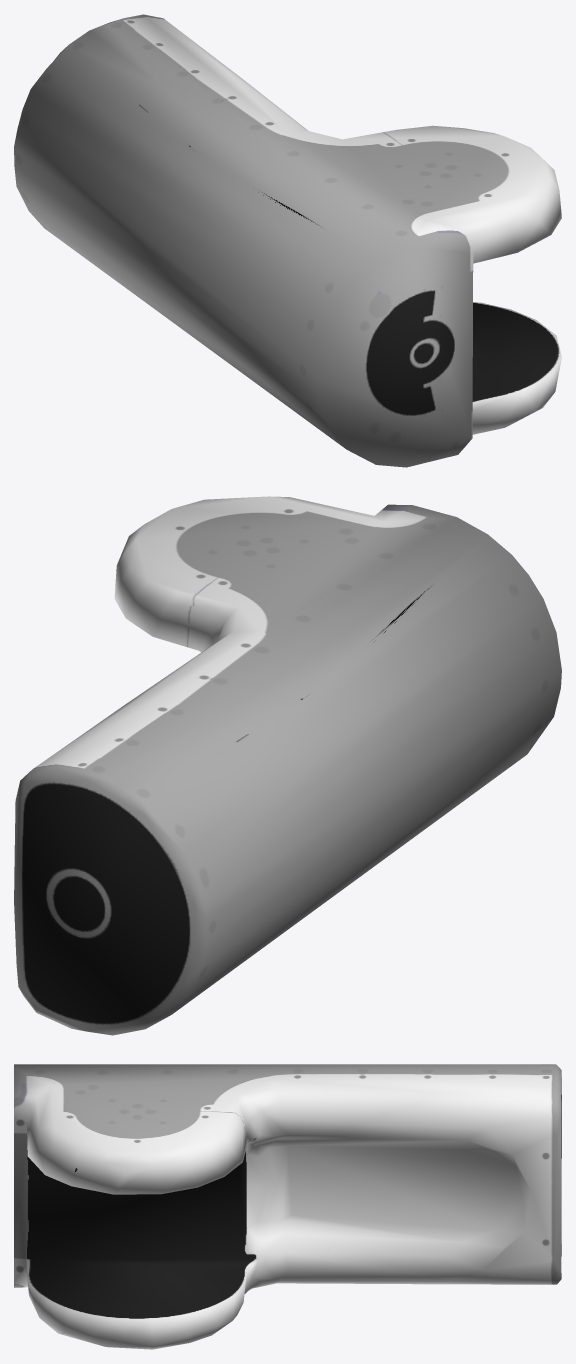
Rendered from l_shoulder_pan_link.OBJ.
3 views of the same model, one above another, from view 1: azimuth 30°, elevation 25°; view 2: azimuth 150°, elevation 25°; view 3: azimuth 270°, elevation 25° (orthographic). The views are drawn at different scales.
Visible parts, largest first — view 1: /ambf/env/pr2/l_shoulder_pan_link_/ambf/env/pr2/l_shoulder_pan_l; view 2: /ambf/env/pr2/l_shoulder_pan_link_/ambf/env/pr2/l_shoulder_pan_l; view 3: /ambf/env/pr2/l_shoulder_pan_link_/ambf/env/pr2/l_shoulder_pan_l.
Boxes of the visible parts, bbox=[...] form: /ambf/env/pr2/l_shoulder_pan_link_/ambf/env/pr2/l_shoulder_pan_l: bbox=[14, 14, 561, 467]; /ambf/env/pr2/l_shoulder_pan_link_/ambf/env/pr2/l_shoulder_pan_l: bbox=[14, 496, 561, 1035]; /ambf/env/pr2/l_shoulder_pan_link_/ambf/env/pr2/l_shoulder_pan_l: bbox=[14, 1064, 561, 1349].
Size of the model in its own units: 0.353 by 0.2543 by 0.6332.
